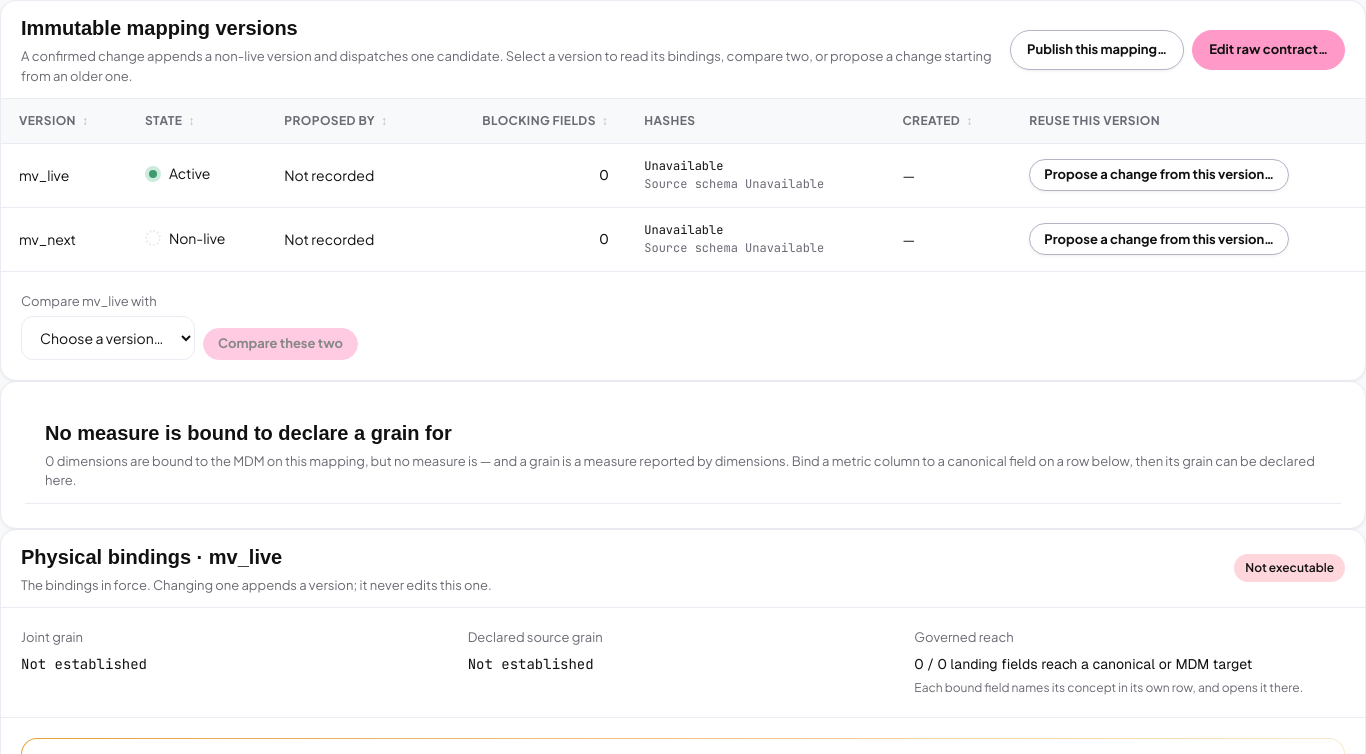
Test case: Mapping tab — governed publication › offers it, and mints the review from the proposal the server named
This screenshot has width=1366, height=754.
Click the button with test id "publish-mapping" at (1097, 50), box [1010, 30, 1184, 70]
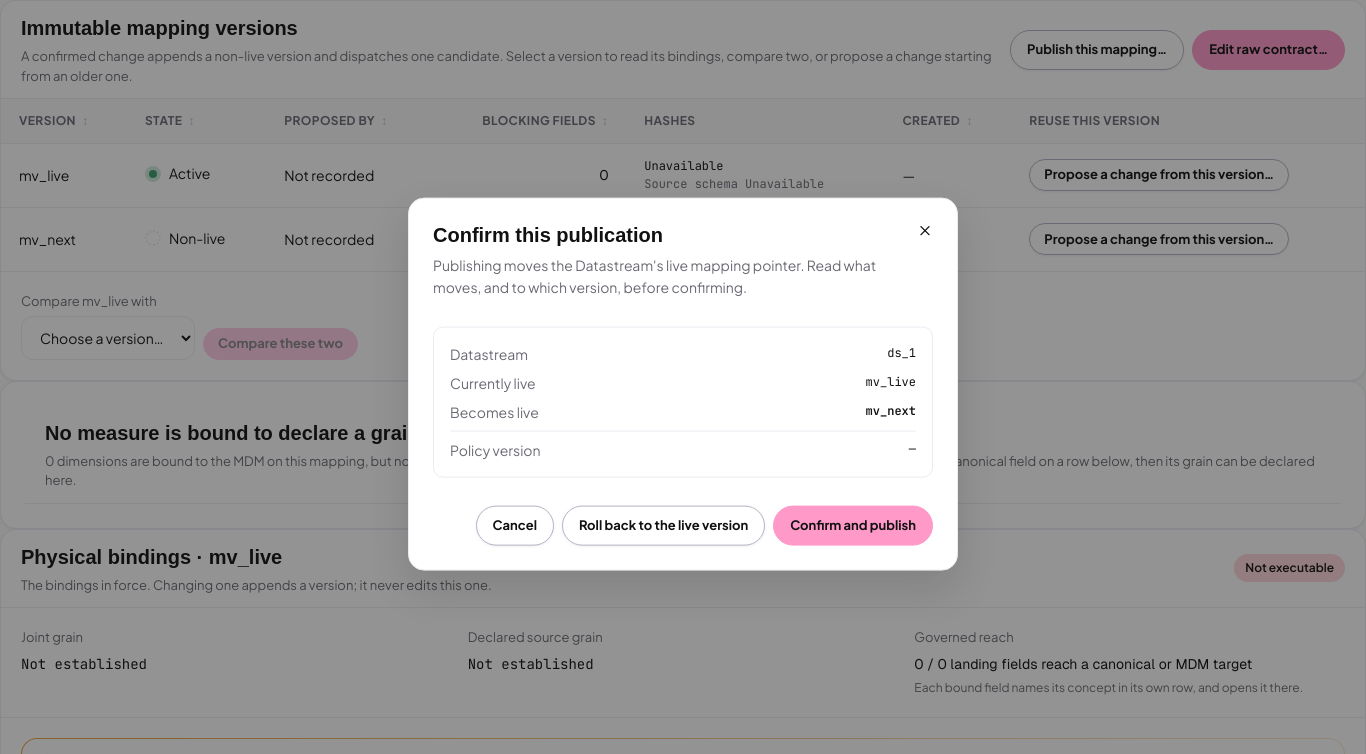
Now the element with test id "publication-review" is shown, box [433, 326, 933, 477]
